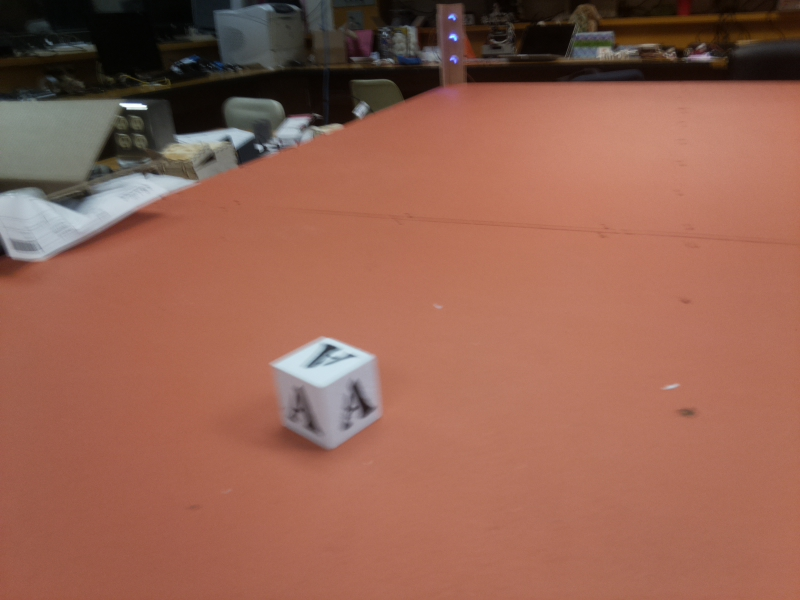blockA: (269, 336, 382, 450)
corner: (435, 5, 467, 84)
